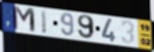3: (120, 20, 138, 47)
4: (101, 18, 118, 44)
9: (77, 15, 97, 42), (59, 12, 75, 39)
I: (40, 9, 48, 35)
M: (12, 5, 37, 35)
